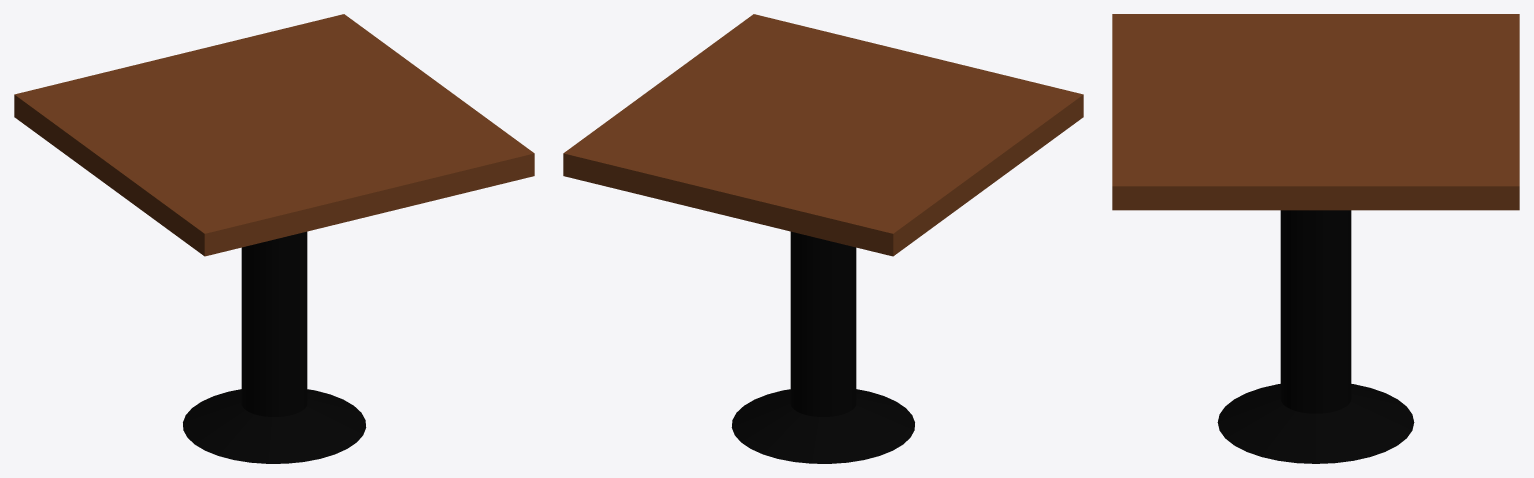
Rendered from EZTable.fbx.
The picture shows the model from 3 angles, left to right: view 1: azimuth 30°, elevation 25°; view 2: azimuth 150°, elevation 25°; view 3: azimuth 270°, elevation 25°; orthographic projection. The views are drawn at different scales.
Visible parts, largest first — view 1: Table; view 2: Table; view 3: Table.
Part boxes in pixels (left/top/right/bottom): Table: left=14, top=14, right=534, bottom=463; Table: left=563, top=14, right=1083, bottom=463; Table: left=1112, top=14, right=1519, bottom=463.
Size of the model in its own units: 488 by 426 by 488.
